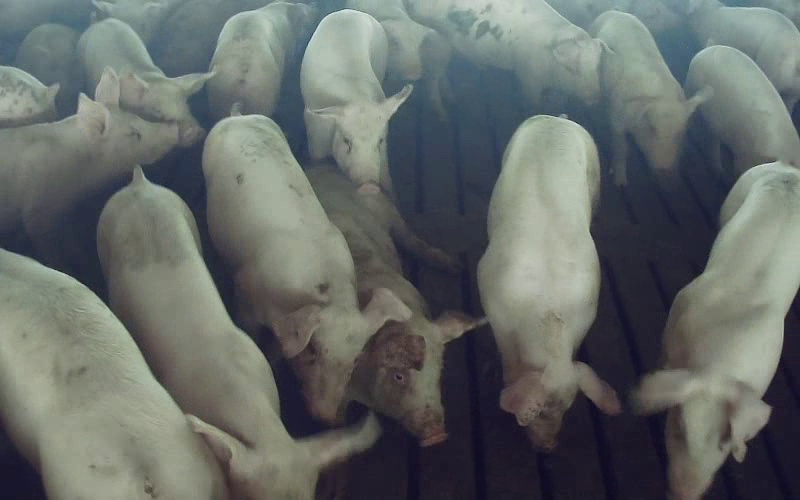pig: (98, 167, 379, 499), (204, 104, 410, 423), (633, 162, 799, 499), (307, 165, 483, 445), (478, 115, 620, 451), (0, 67, 177, 235), (407, 0, 602, 117), (301, 10, 411, 192), (591, 11, 700, 184), (78, 18, 211, 145), (686, 46, 799, 172), (208, 2, 315, 119)
